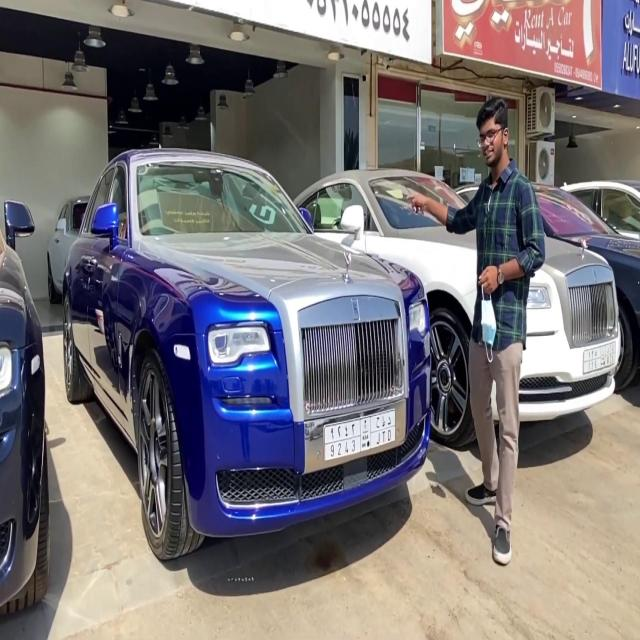license_plate: (320, 405, 397, 462)
